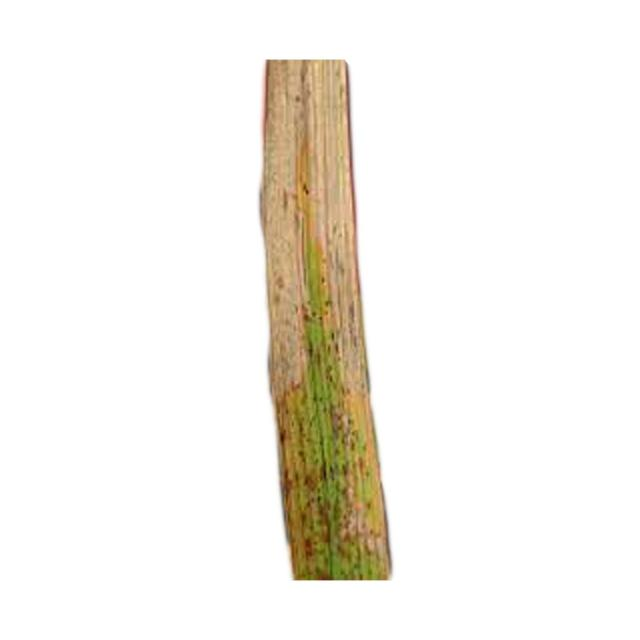Leaf scald: (138, 0, 468, 587)
